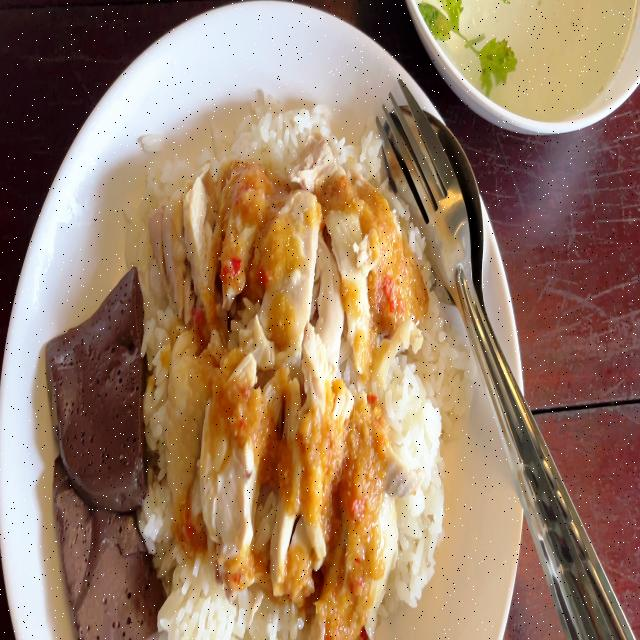boiled_chicken: (156, 164, 403, 589)
boiled_chicken_blood_jelly: (40, 266, 142, 502), (56, 463, 156, 640)
chicken_rice: (52, 102, 448, 640)
